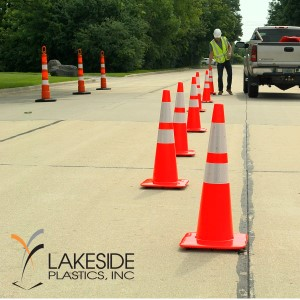traffic cone: (179, 102, 246, 250), (140, 89, 189, 189), (169, 81, 195, 157), (182, 76, 207, 132), (186, 71, 206, 112), (201, 70, 212, 103), (204, 67, 216, 95)
